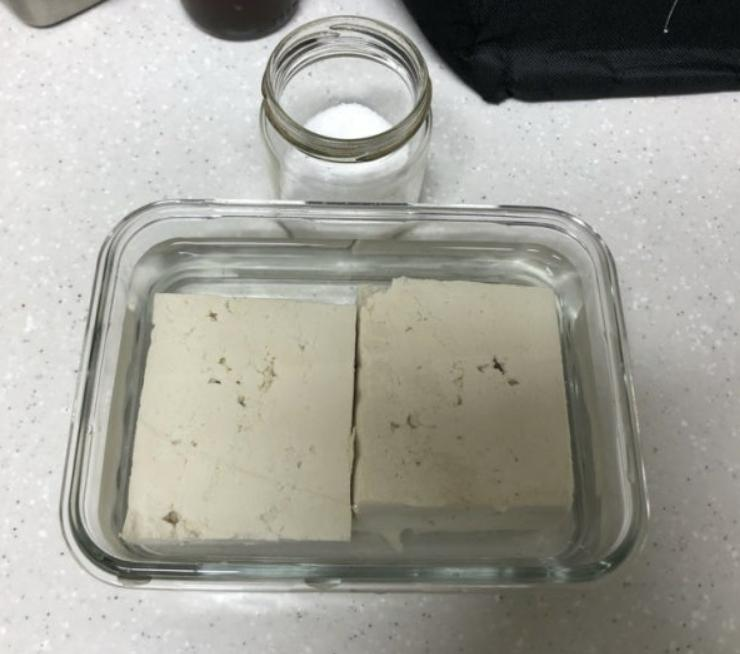Lunch Box: (61, 201, 646, 591), (261, 16, 431, 201)
